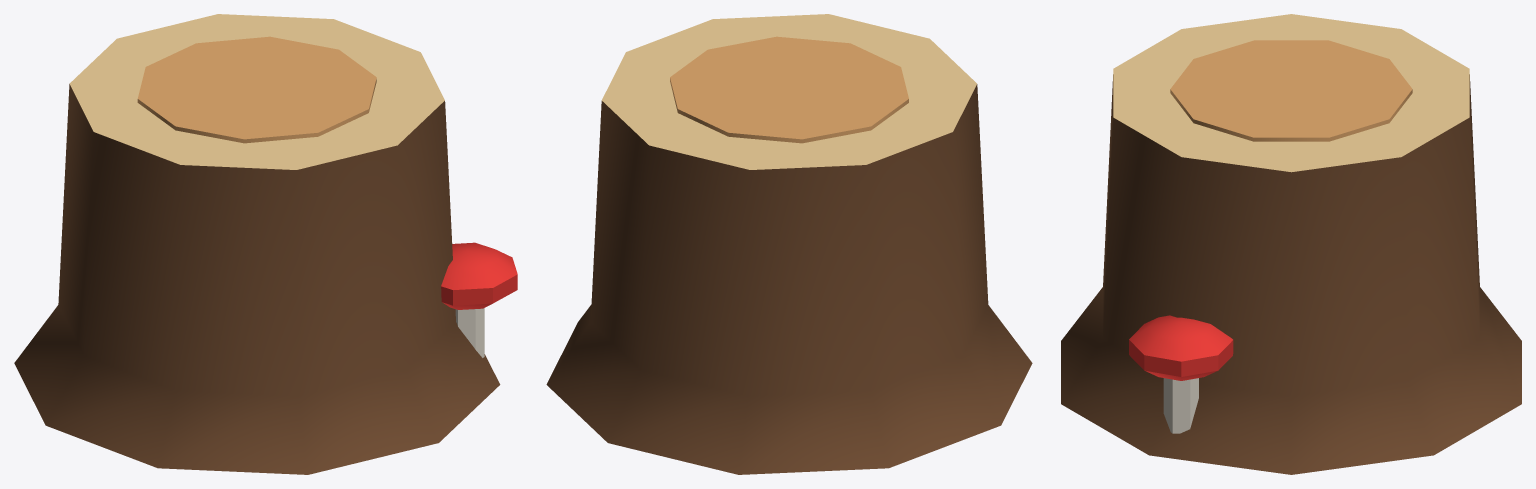
The model's file is Stump.fbx.
3 renders of one model, left to right at view 1: azimuth 30°, elevation 25°; view 2: azimuth 150°, elevation 25°; view 3: azimuth 270°, elevation 25°, orthographic.
Parts seen in each view (by area): view 1: Stump; view 2: Stump; view 3: Stump.
Boxes of the visible parts, left/top/right/bottom form: Stump: left=14, top=14, right=517, bottom=474; Stump: left=546, top=14, right=1032, bottom=474; Stump: left=1061, top=14, right=1521, bottom=474.
Bounding box in the file's own units: 2.2 × 1.42 × 2.09.
1 material, 1 textured.
